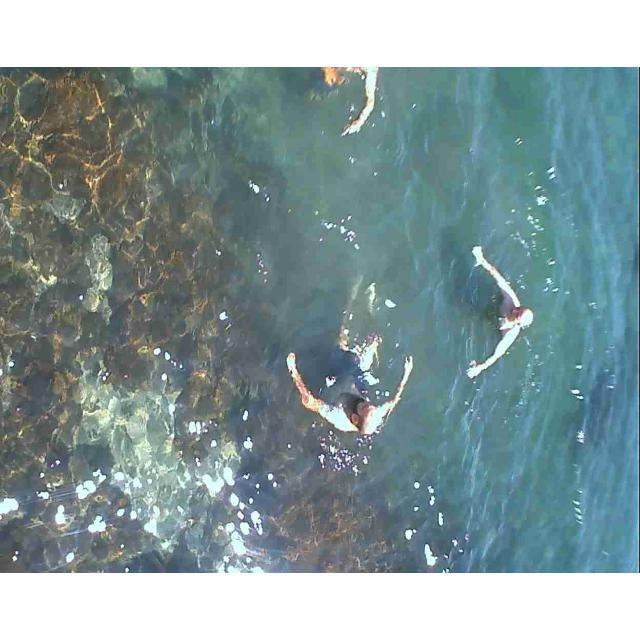human: (285, 310, 415, 436), (476, 243, 533, 398), (301, 67, 383, 138)
